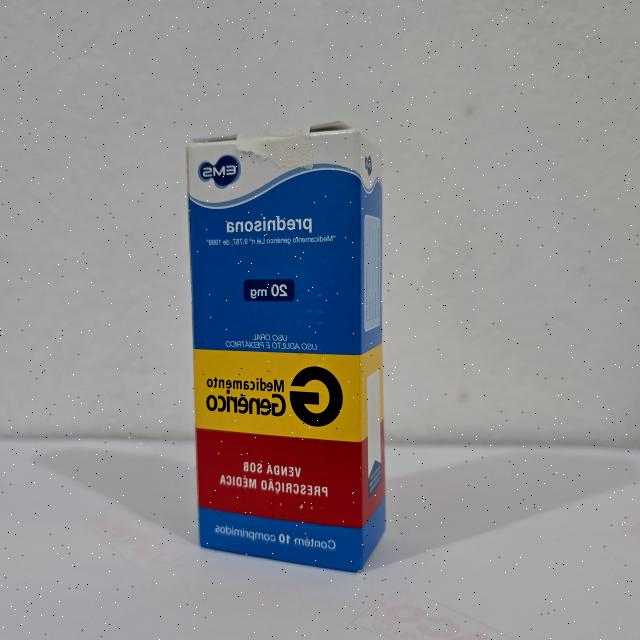prednisona: (182, 115, 389, 580)
